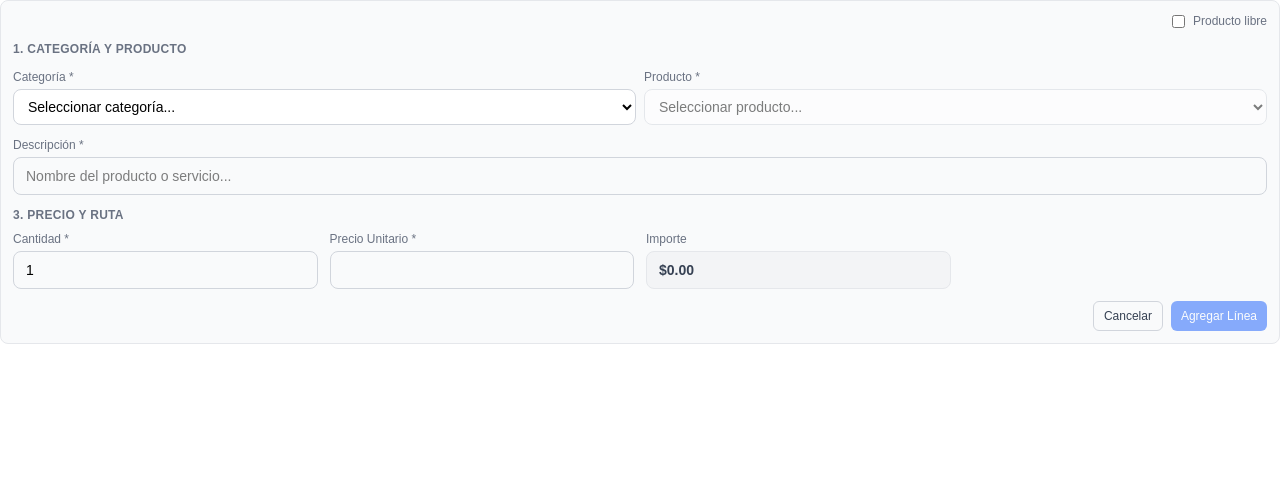
Test: LineaPedido (catálogo) › exige elegir todas las opciones del producto antes de guardar
This screenshot has width=1280, height=477.
Check: the button "Agregar Línea" is disabled, box [1171, 301, 1267, 331]
Select "Photo Books" in the dropdown below "Categoría *" at (324, 107), box [13, 89, 636, 125]
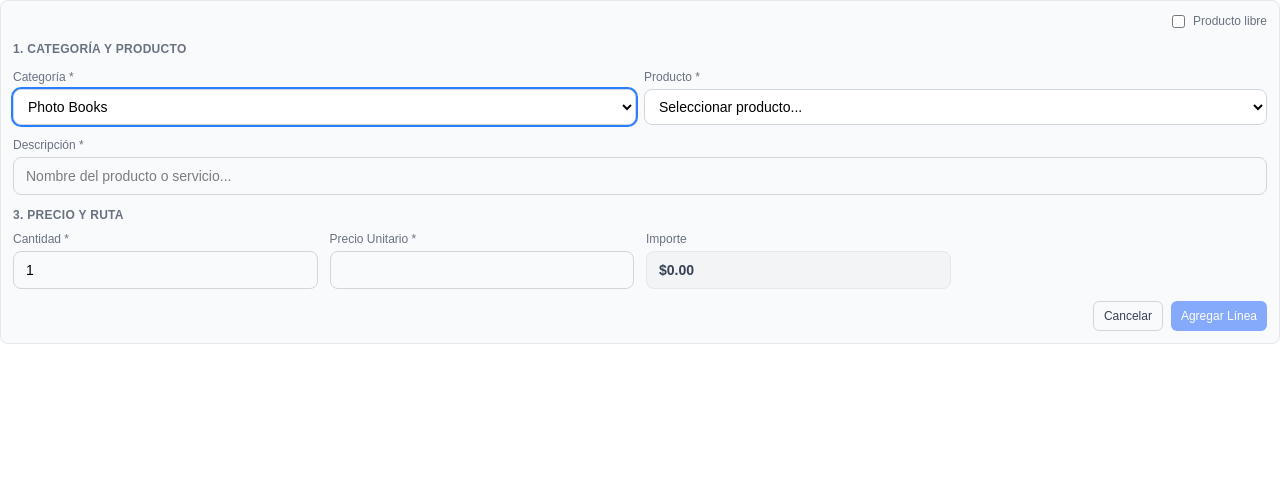
Select "Color Book Pasta Dura" in the dropdown below "Producto *" at (956, 107), box [644, 89, 1267, 125]
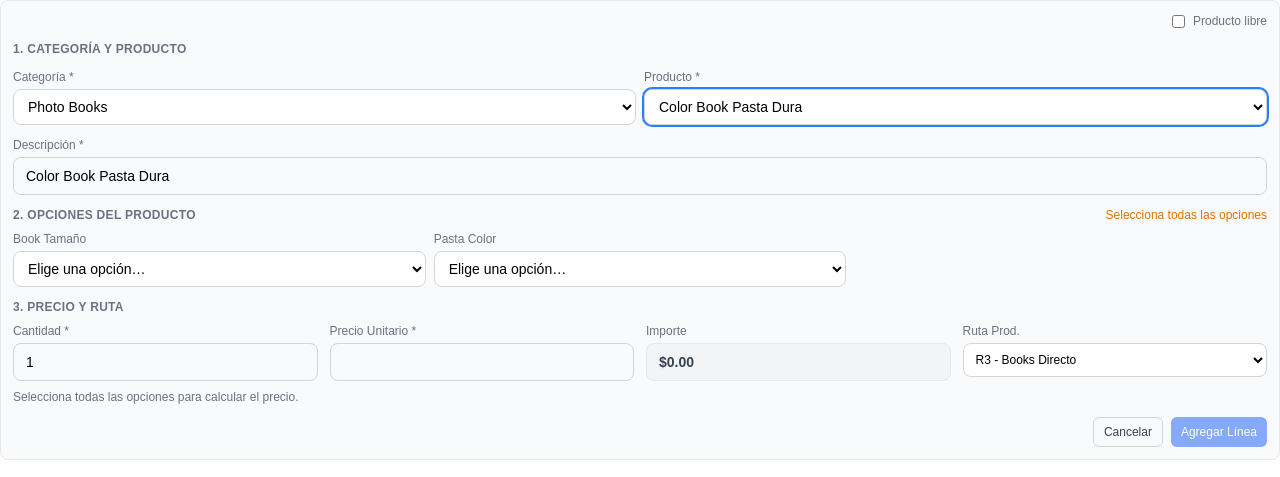
Select "8x10\"" in the dropdown below "Book Tamaño" at (219, 269), box [13, 251, 426, 287]
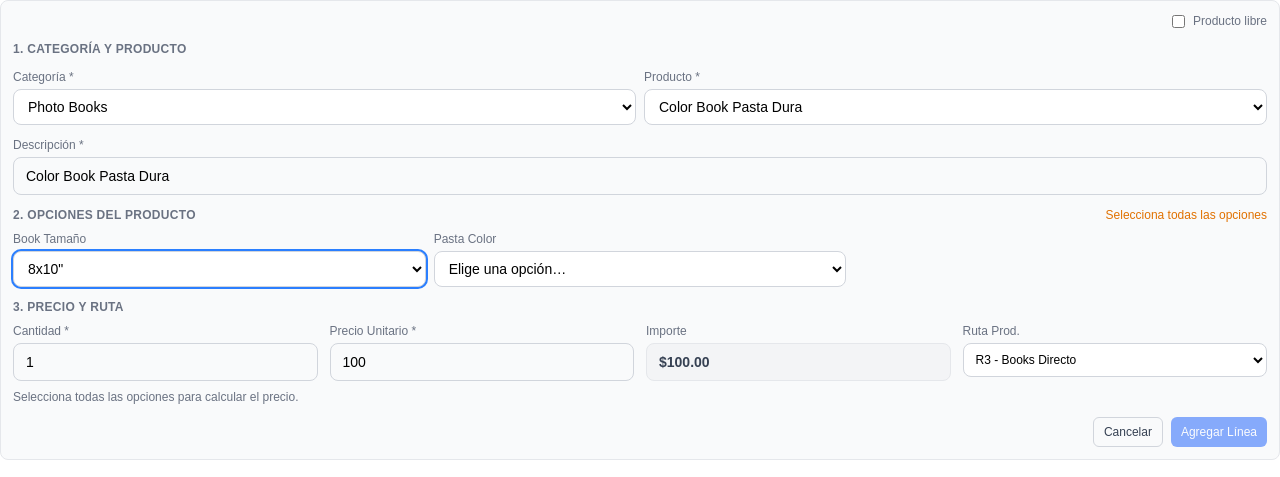
Check: the button "Agregar Línea" is disabled, box [1171, 417, 1267, 447]
Select "Negro" in the dropdown below "Pasta Color" at (640, 269), box [434, 251, 846, 287]
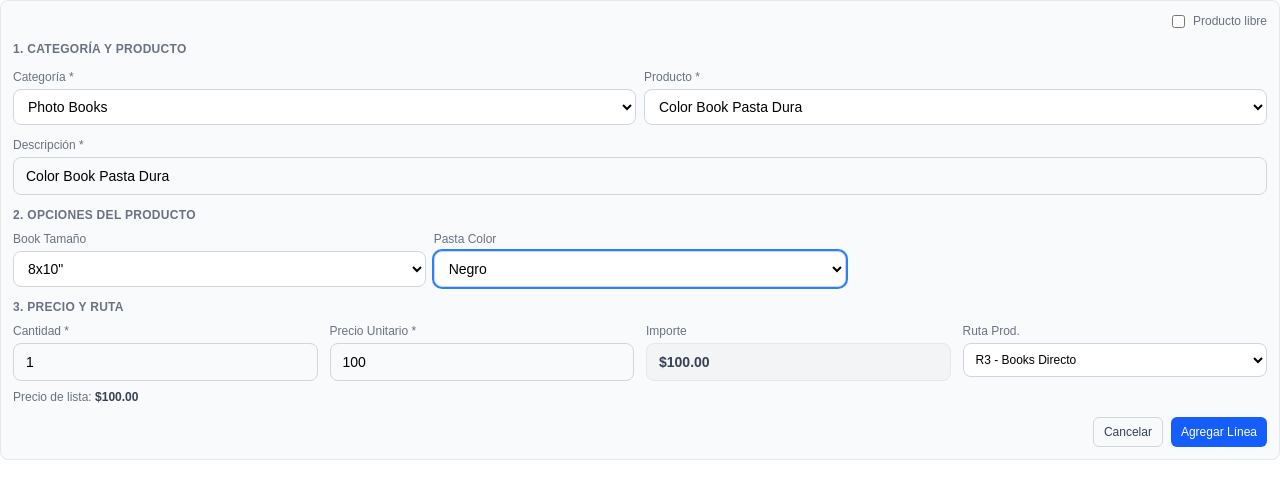
Check: the button "Agregar Línea" is enabled, box [1171, 417, 1267, 447]
